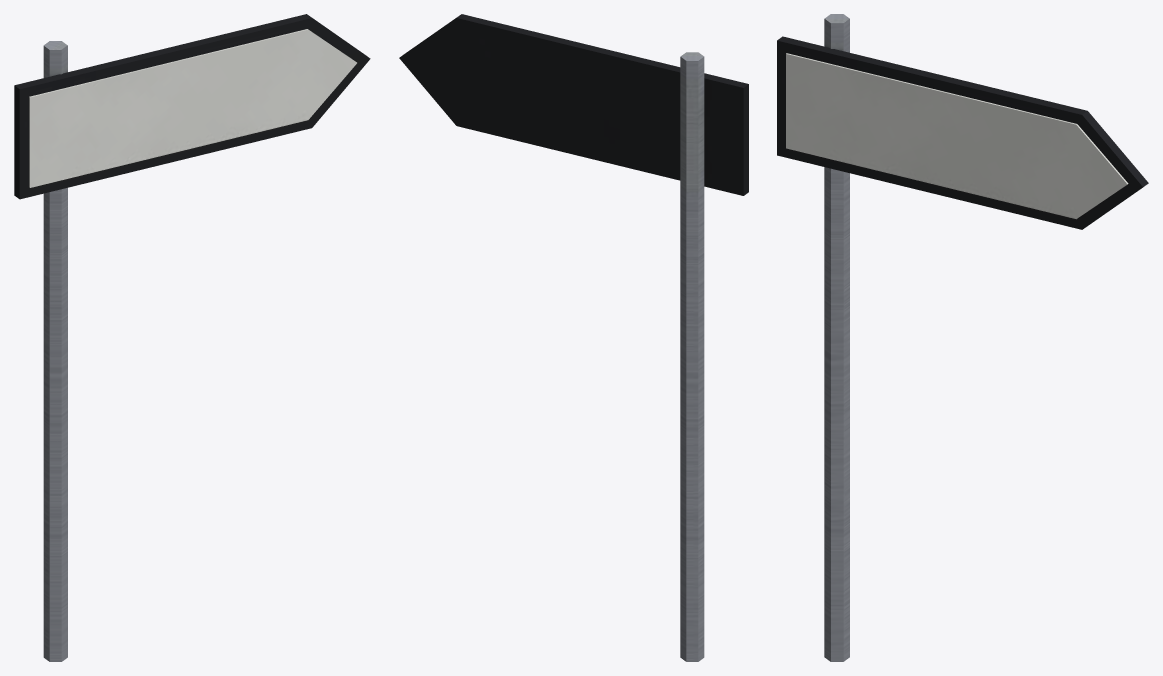
File: skylt_vag_h_tex.glb
The picture shows the model from 3 angles, left to right: view 1: azimuth 30°, elevation 25°; view 2: azimuth 150°, elevation 25°; view 3: azimuth 330°, elevation 25°; orthographic projection. The views are drawn at different scales.
Parts seen in each view (by area): view 1: skylt_vag_h; view 2: skylt_vag_h; view 3: skylt_vag_h.
Part boxes in pixels (x1,y1,x2,y2): skylt_vag_h: (14, 14, 370, 661); skylt_vag_h: (399, 14, 748, 661); skylt_vag_h: (777, 14, 1148, 661).
Size of the model in its own units: 1.5 by 2.5 by 0.132.
Materials: 3 (3 with a texture image).
